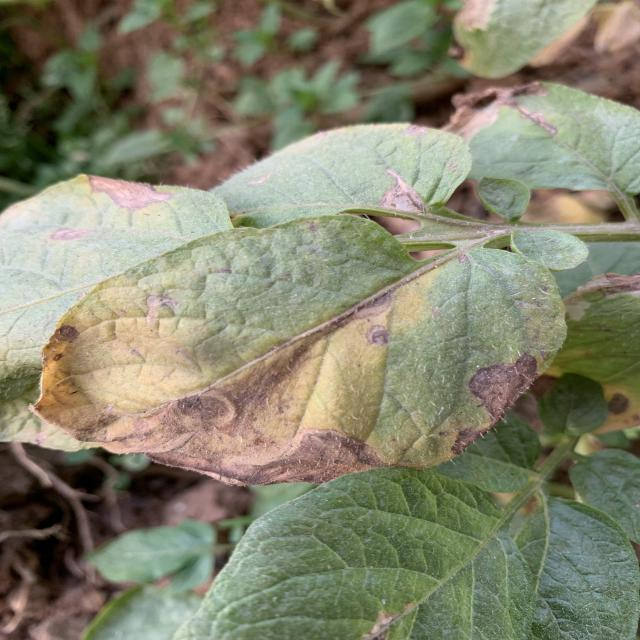lateblight: (97, 389, 273, 484), (30, 324, 107, 450), (217, 335, 327, 422), (452, 352, 538, 454), (272, 426, 390, 482), (327, 290, 398, 356), (473, 82, 558, 135), (563, 272, 640, 320), (88, 175, 173, 211), (378, 169, 425, 212), (50, 229, 95, 240)
